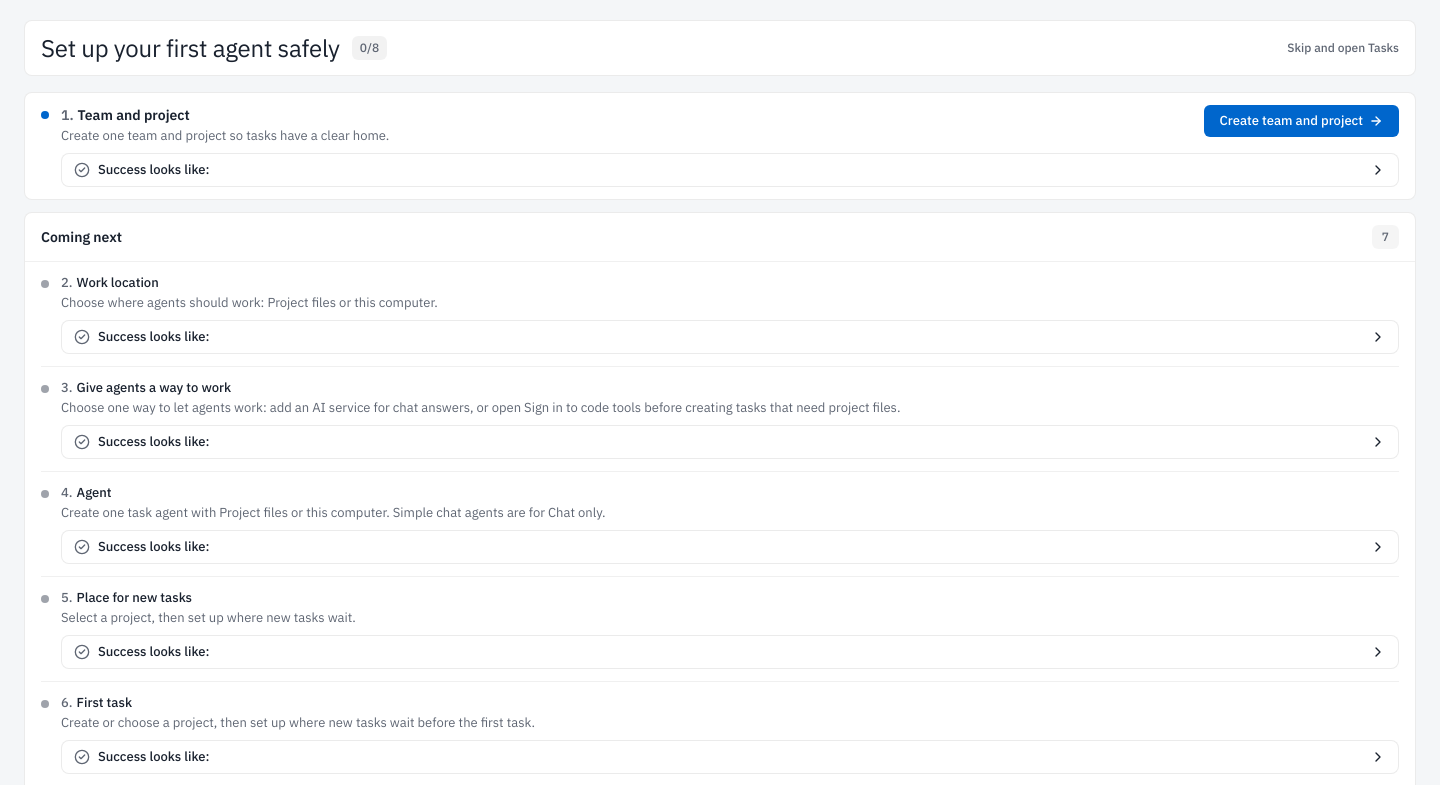
Test: GettingStartedView › lets an established account expand a step success line
Expected: the text "A team and project exist, and the project is selected." is not shown
Click the 1st button "Success looks like:": (154, 170) [62, 154, 1398, 186]
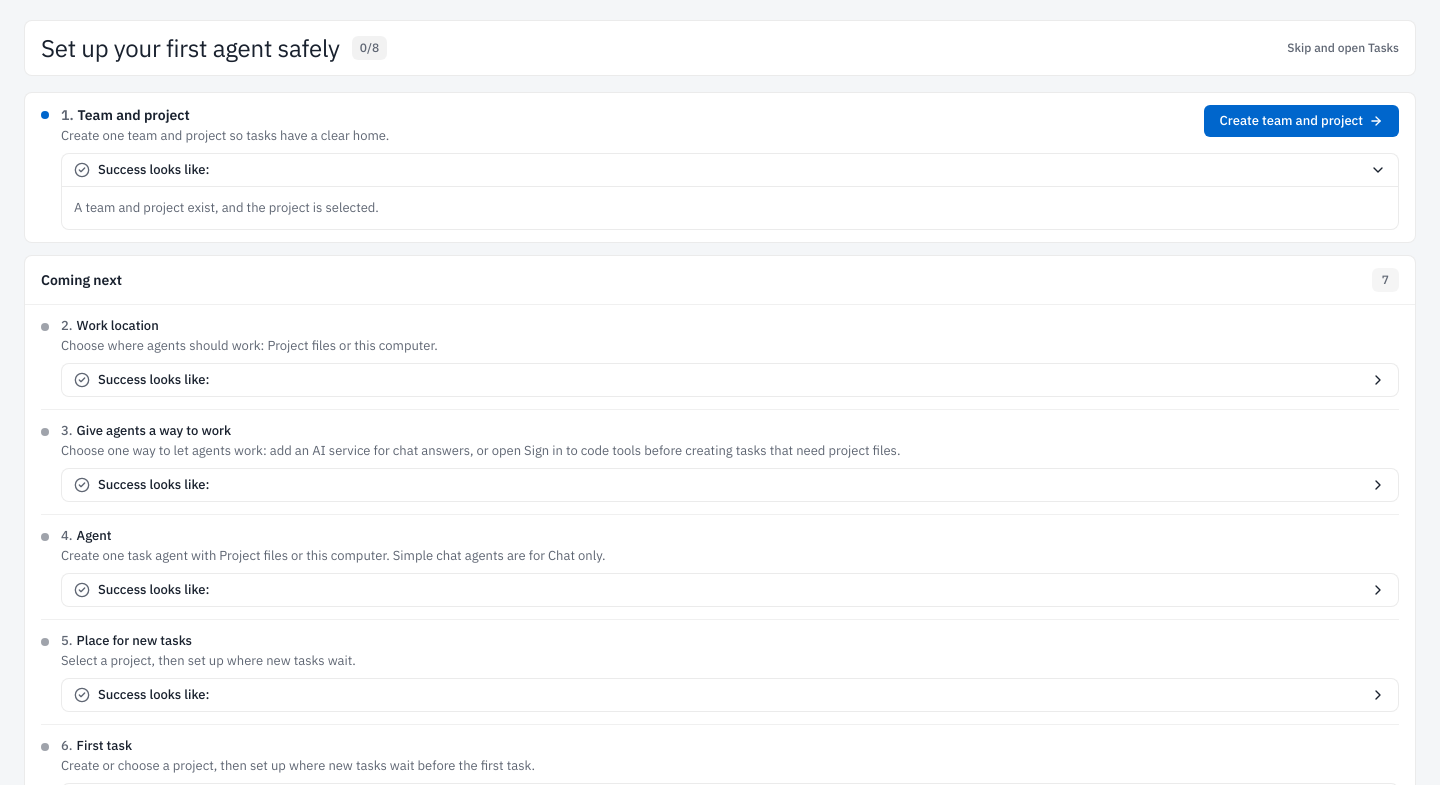
Result: the 1st button "Success looks like:" is expanded at [62, 154, 1398, 186]
Result: the text "A team and project exist, and the project is selected." is shown at [74, 199, 379, 216]
